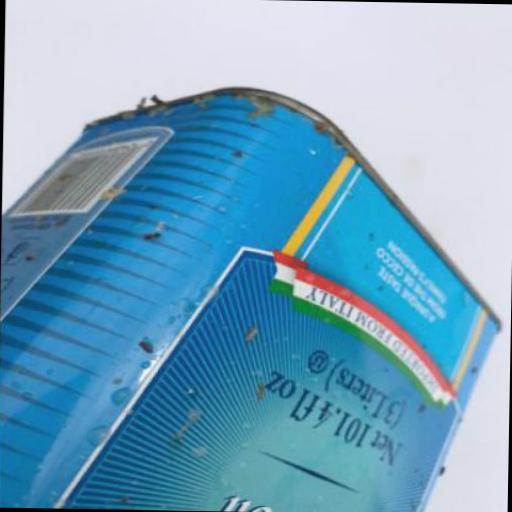metal: (0, 81, 506, 512)
